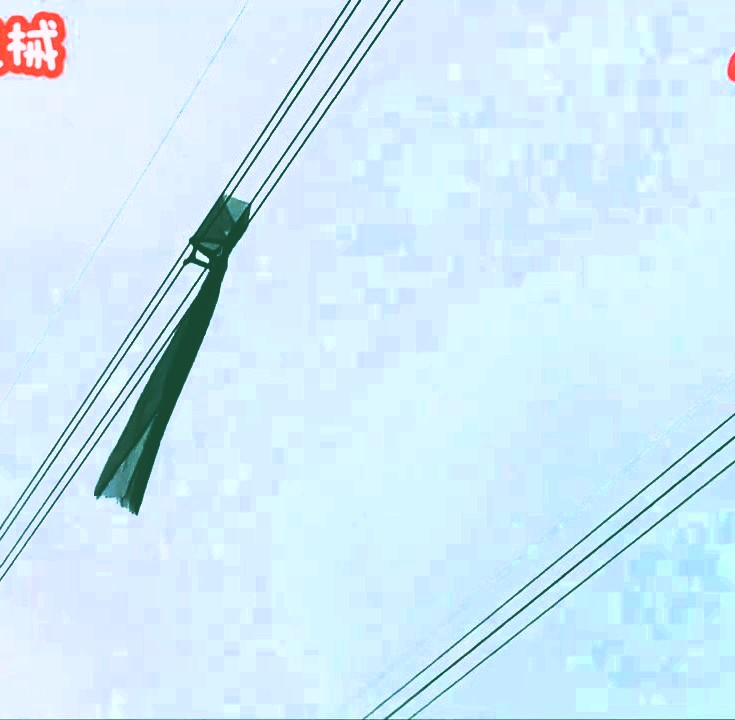wire foreign body: (90, 185, 272, 514)
